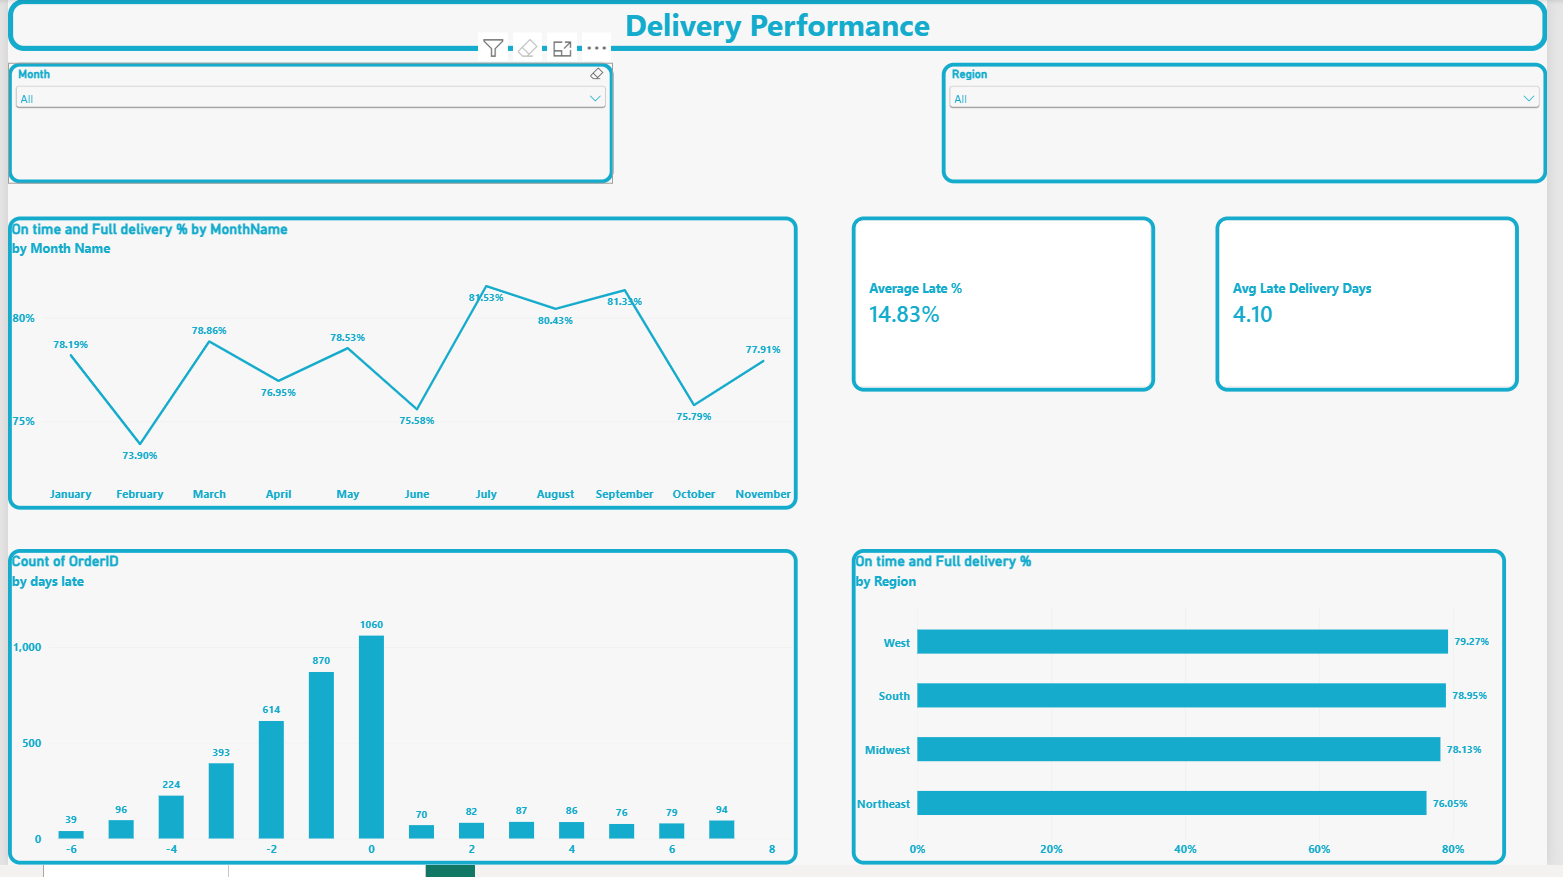

The dashboard page shown, as its layout file describes it:
{"tool":"powerbi","page":{"name":"Delivery Performnace","canvas":[1920,1080],"ordinal":1},"visuals":[{"type":"lineChart","fields":{"Category":["Date.MonthName"],"Y":["Orders.On time and Full delivery %"]},"box":[0,270.5,984.7,365.7],"z":9000},{"type":"textbox","box":[0,0,1920,64.7],"z":10000},{"type":"slicer","fields":{"Values":["Date.MonthName"]},"box":[0,80.1,755.1,150],"z":11000},{"type":"slicer","fields":{"Values":["Orders.Region"]},"box":[1164.3,80.1,755,150],"z":12000},{"type":"columnChart","fields":{"Category":["Orders.days late"],"Y":["CountNonNull(Orders.OrderID)"]},"box":[0,686,984.7,393.9],"z":12001},{"type":"clusteredBarChart","fields":{"Category":["Orders.Region"],"Y":["Orders.On time and Full delivery %"]},"box":[1051.8,686,815.9,393.9],"z":12002},{"type":"cardVisual","fields":{"Data":["Orders.Average Late %"]},"box":[1051.8,270.5,378.7,218.6],"z":12003},{"type":"cardVisual","fields":{"Data":["Orders.Avg Delivery Days"]},"box":[1506.2,270.5,378,218.6],"z":12004}]}

Visuals, with their boxes in screenshot pixels (x1, y1, x2, y2):
lineChart - Date.MonthName x Orders.On time and Full delivery %: [x1=4, y1=212, x2=791, y2=504]
textbox: [x1=4, y1=0, x2=1538, y2=48]
slicer - Date.MonthName: [x1=4, y1=60, x2=607, y2=180]
slicer - Orders.Region: [x1=934, y1=60, x2=1538, y2=180]
columnChart - Orders.days late x CountNonNull(Orders.OrderID): [x1=4, y1=544, x2=791, y2=859]
clusteredBarChart - Orders.Region x Orders.On time and Full delivery %: [x1=845, y1=544, x2=1497, y2=859]
cardVisual - Orders.Average Late %: [x1=845, y1=212, x2=1147, y2=387]
cardVisual - Orders.Avg Delivery Days: [x1=1208, y1=212, x2=1510, y2=387]
